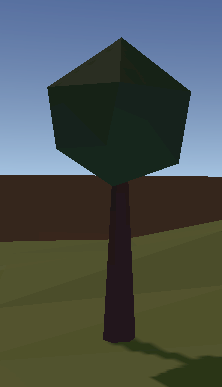tree: (46, 37, 193, 344)
